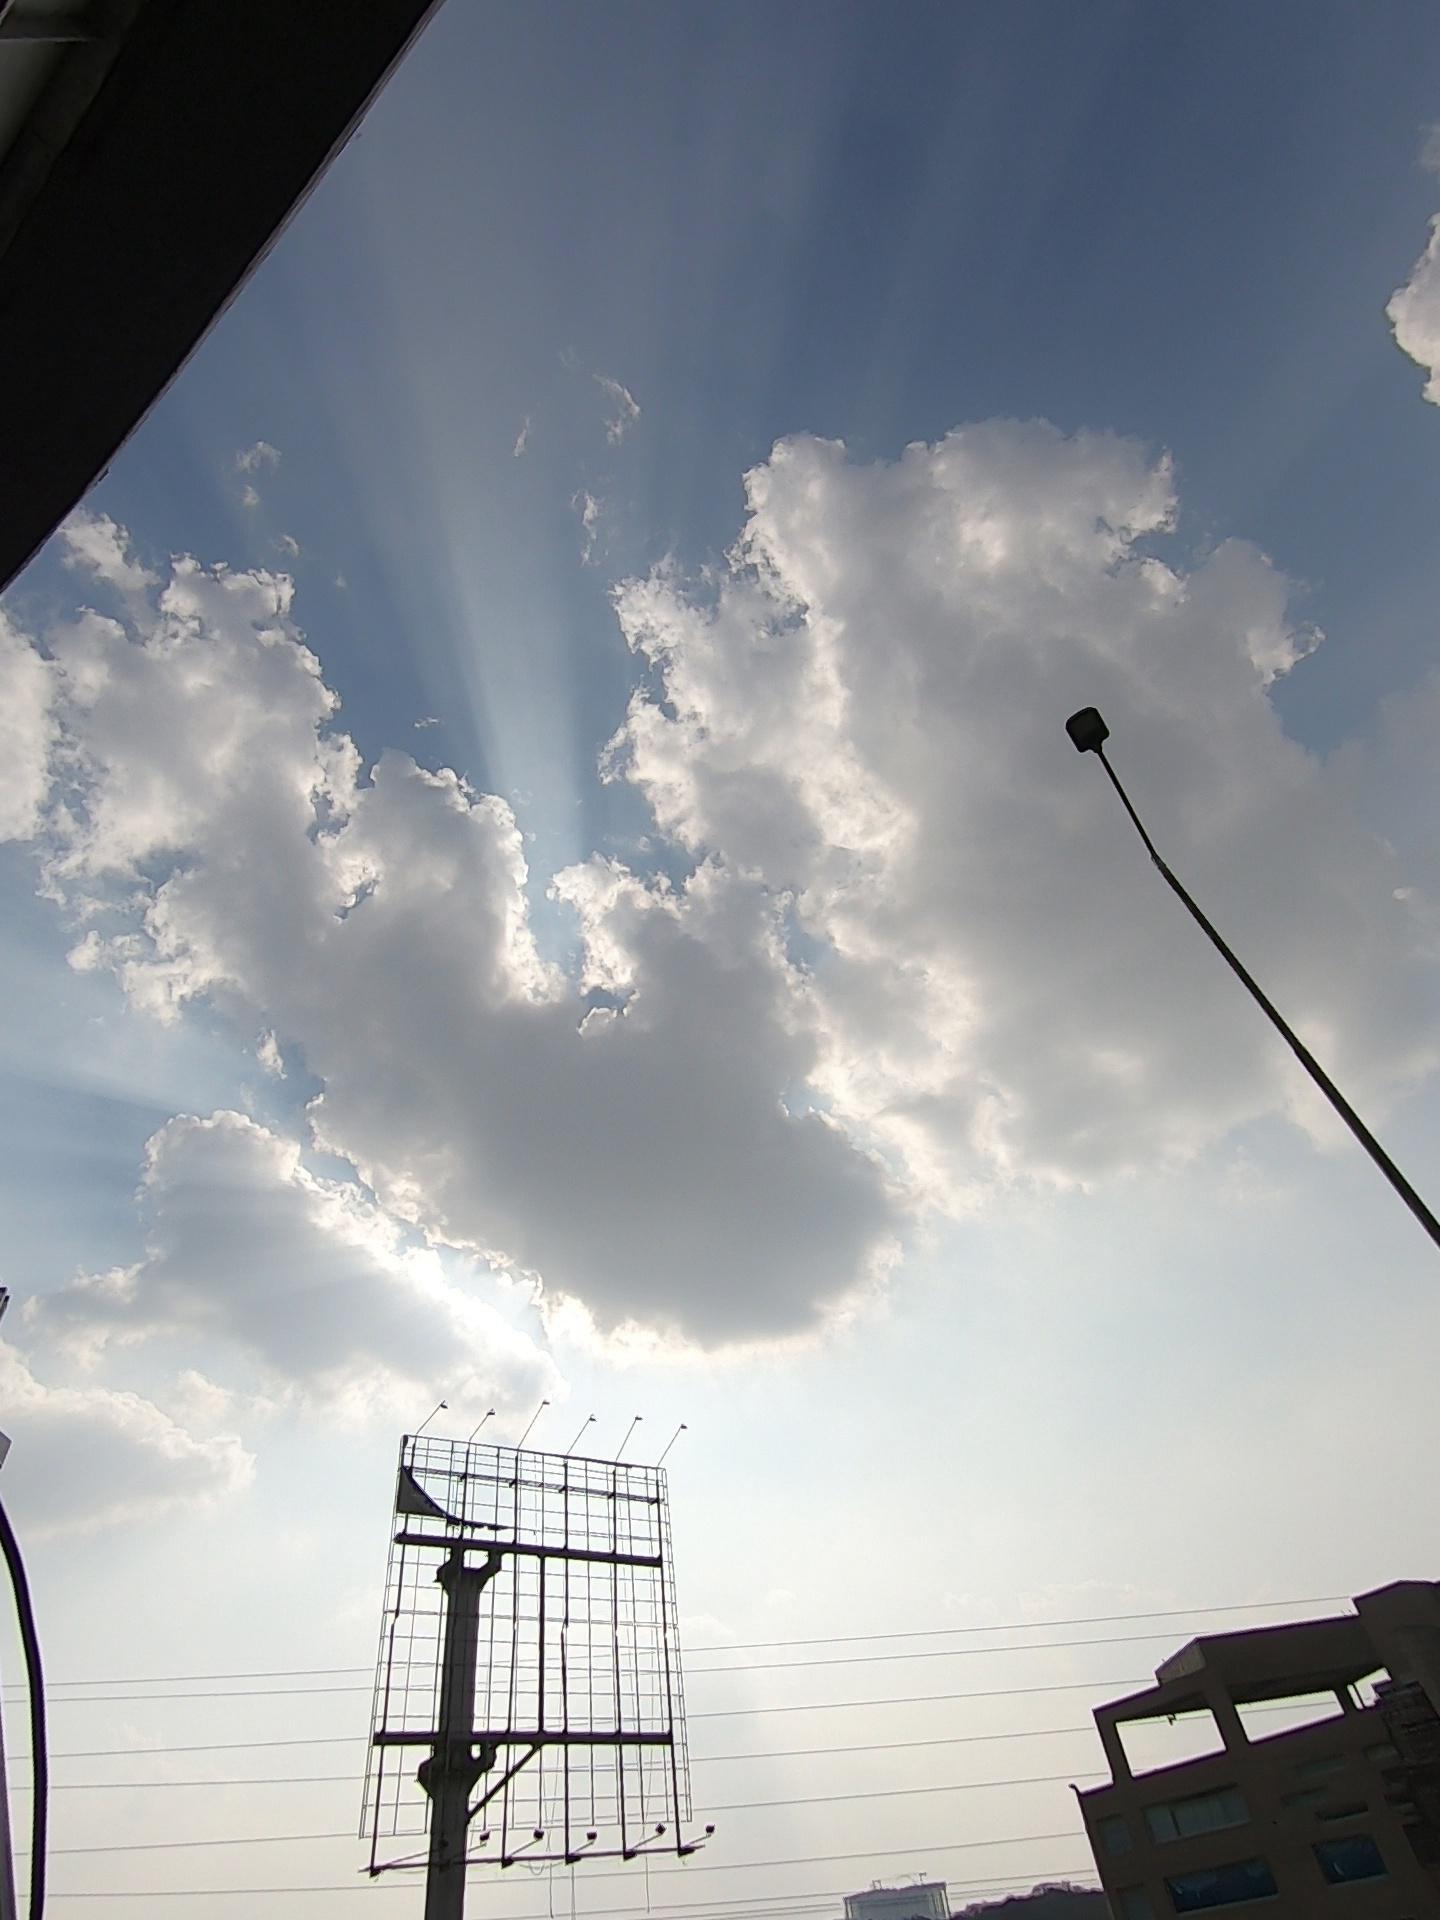off: (985, 630, 1207, 860)
